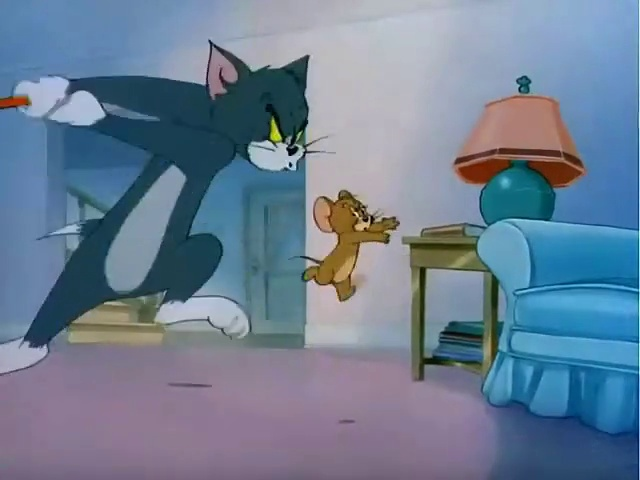jerry: (295, 172, 416, 307)
tom: (6, 37, 304, 406)
